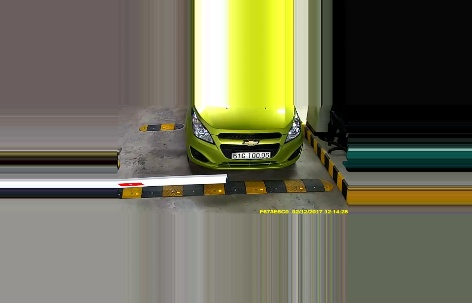plate: (231, 150, 271, 160)
